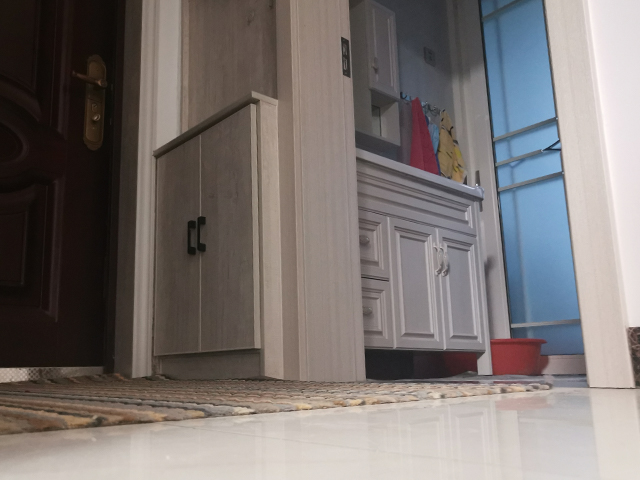cabinet: (150, 92, 279, 384), (353, 144, 495, 379)
carpet: (1, 371, 553, 436)
